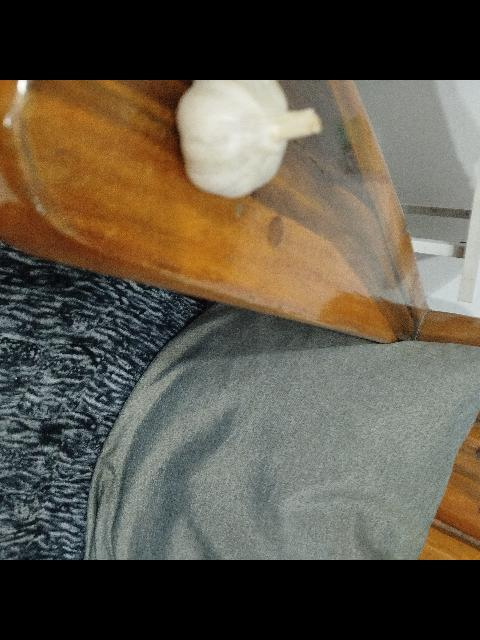garlic: (175, 81, 323, 199)
